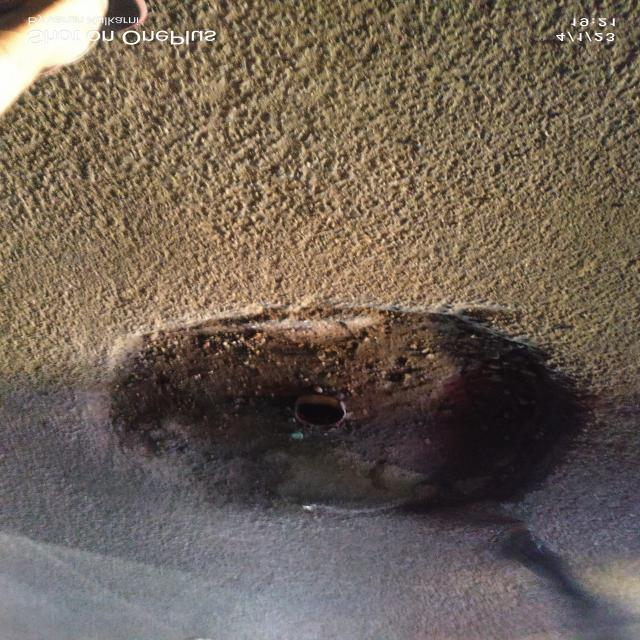potholes: (95, 299, 598, 520)
